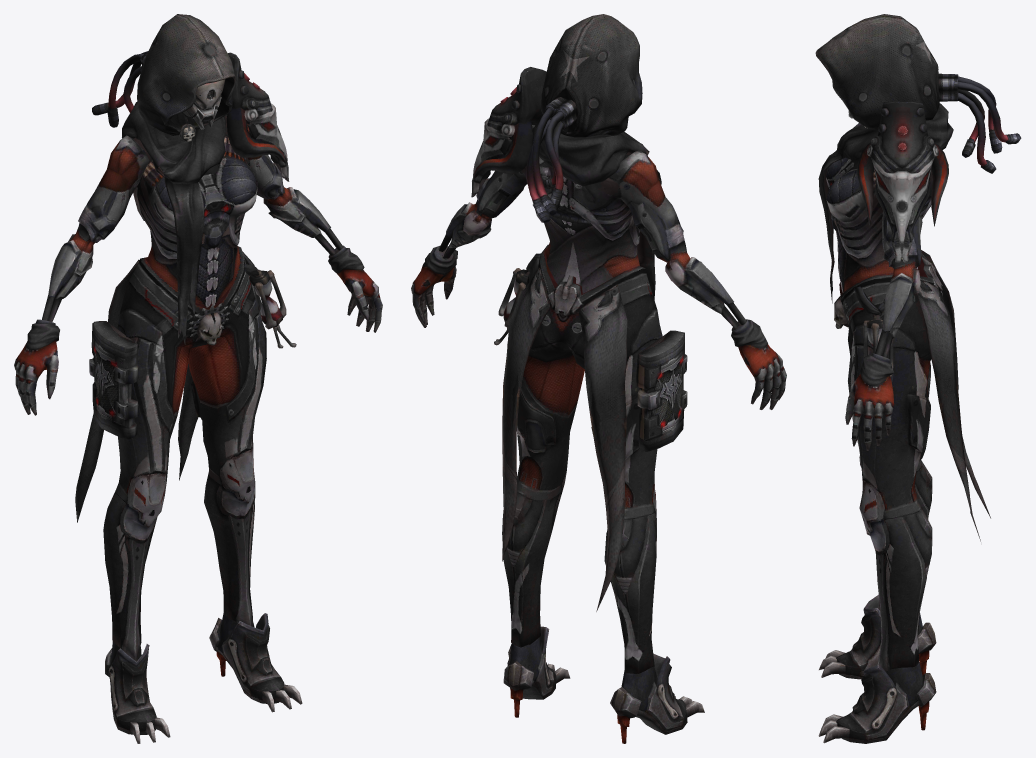
File: Female_War2.obj
3 renders of one model, left to right at view 1: azimuth 30°, elevation 25°; view 2: azimuth 150°, elevation 25°; view 3: azimuth 270°, elevation 25°, orthographic.
Visible parts, largest first — view 1: female_bottom_cos_death_female_lobby_top_cos_death.002, female_lobby_top_cos_death_female_lobby_top_cos_death.003, female_head_cos_death_female_lobby_top_cos_death.004, female_shoes_cos_death_female_lobby_top_cos_death.001; view 2: female_bottom_cos_death_female_lobby_top_cos_death.002, female_lobby_top_cos_death_female_lobby_top_cos_death.003, female_head_cos_death_female_lobby_top_cos_death.004, female_shoes_cos_death_female_lobby_top_cos_death.001; view 3: female_bottom_cos_death_female_lobby_top_cos_death.002, female_lobby_top_cos_death_female_lobby_top_cos_death.003, female_head_cos_death_female_lobby_top_cos_death.004, female_shoes_cos_death_female_lobby_top_cos_death.001.
Part boxes in pixels (left/top/right/bottom): female_bottom_cos_death_female_lobby_top_cos_death.002: left=75, top=246, right=296, bottom=661; female_lobby_top_cos_death_female_lobby_top_cos_death.003: left=14, top=52, right=382, bottom=415; female_head_cos_death_female_lobby_top_cos_death.004: left=92, top=14, right=235, bottom=141; female_shoes_cos_death_female_lobby_top_cos_death.001: left=105, top=612, right=302, bottom=743; female_bottom_cos_death_female_lobby_top_cos_death.002: left=494, top=244, right=687, bottom=673; female_lobby_top_cos_death_female_lobby_top_cos_death.003: left=411, top=67, right=786, bottom=409; female_head_cos_death_female_lobby_top_cos_death.004: left=526, top=14, right=642, bottom=223; female_shoes_cos_death_female_lobby_top_cos_death.001: left=503, top=626, right=704, bottom=743; female_bottom_cos_death_female_lobby_top_cos_death.002: left=834, top=250, right=990, bottom=671; female_lobby_top_cos_death_female_lobby_top_cos_death.003: left=818, top=101, right=953, bottom=450; female_head_cos_death_female_lobby_top_cos_death.004: left=815, top=14, right=1021, bottom=173; female_shoes_cos_death_female_lobby_top_cos_death.001: left=818, top=595, right=936, bottom=743.
Bounding box in the file's own units: 2.73 × 4.99 × 1.36.
Materials: 4 (4 with a texture image).
